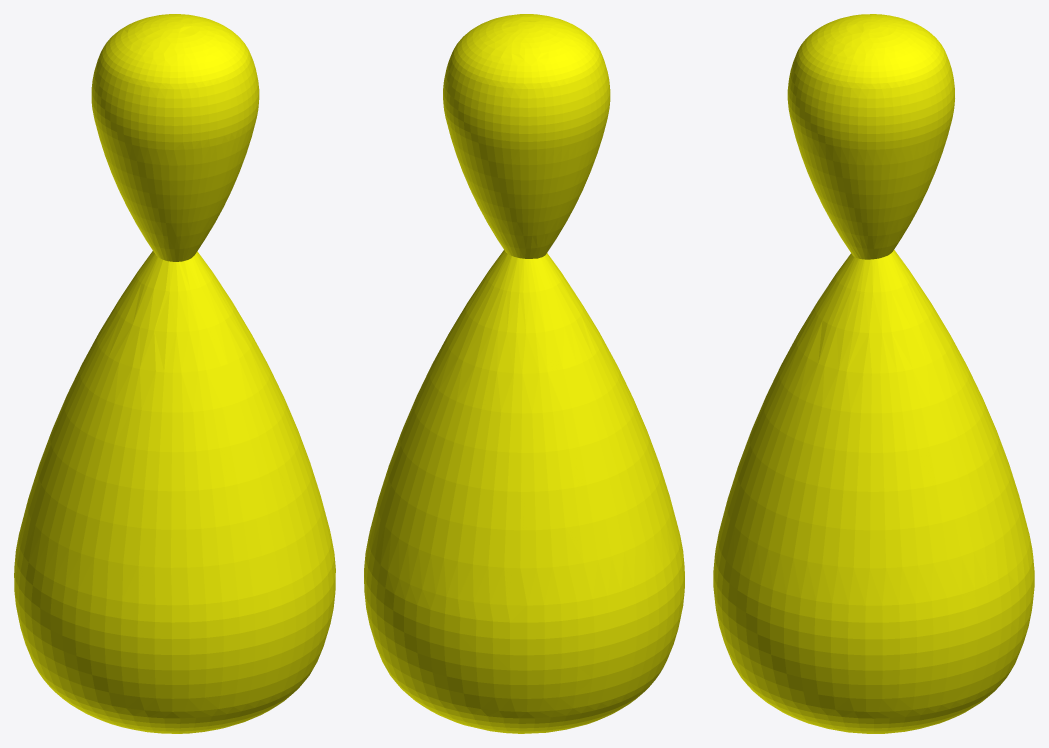
Rendered from Carbono_h.glb.
The picture shows the model from 3 angles, left to right: view 1: azimuth 30°, elevation 25°; view 2: azimuth 150°, elevation 25°; view 3: azimuth 270°, elevation 25°; orthographic projection.
Parts seen in each view (by area): view 1: root; view 2: root; view 3: root.
Part boxes in pixels (x1,y1,x2,y2): root: [14, 14, 335, 733]; root: [364, 14, 684, 733]; root: [713, 14, 1034, 733].
Size of the model in its own units: 0.0299 by 0.0707 by 0.03.
